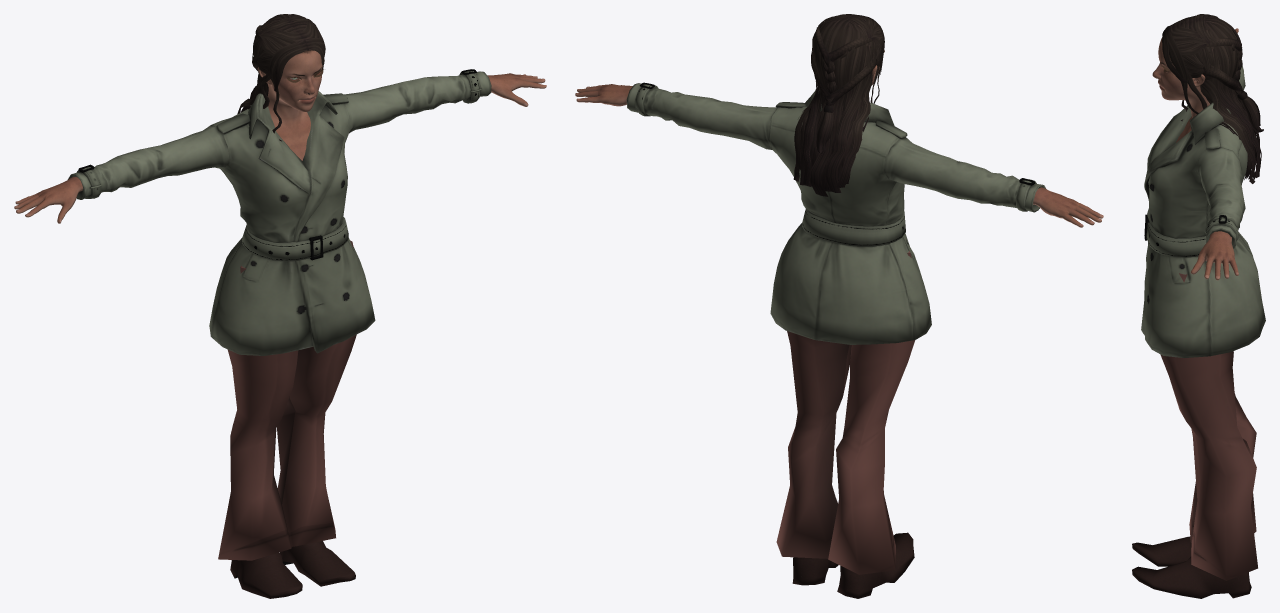
File: modelw5.obj
The picture shows the model from 3 angles, left to right: view 1: azimuth 30°, elevation 25°; view 2: azimuth 150°, elevation 25°; view 3: azimuth 270°, elevation 25°; orthographic projection.
Visible parts, largest first — view 1: Tops, Bottoms, Body, Shoes, Hair; view 2: Tops, Bottoms, Hair, Shoes, Body; view 3: Tops, Bottoms, Hair, Shoes, Body.
Part boxes in pixels (box(x1,y1,x2,y2)): Tops: box(67, 69, 491, 355); Bottoms: box(218, 240, 356, 560); Body: box(14, 50, 546, 223); Shoes: box(230, 541, 355, 598); Hair: box(237, 14, 325, 141); Tops: box(626, 82, 1045, 344); Bottoms: box(776, 251, 915, 574); Hair: box(793, 14, 884, 196); Shoes: box(792, 532, 914, 598); Body: box(575, 65, 1103, 227); Tops: box(1141, 65, 1265, 357); Bottoms: box(1160, 273, 1257, 580); Hair: box(1162, 14, 1263, 183); Shoes: box(1132, 536, 1251, 598); Body: box(1152, 28, 1238, 280).
Size of the model in its own units: 170 by 173 by 37.33.
Materials: 5 (5 with a texture image).
